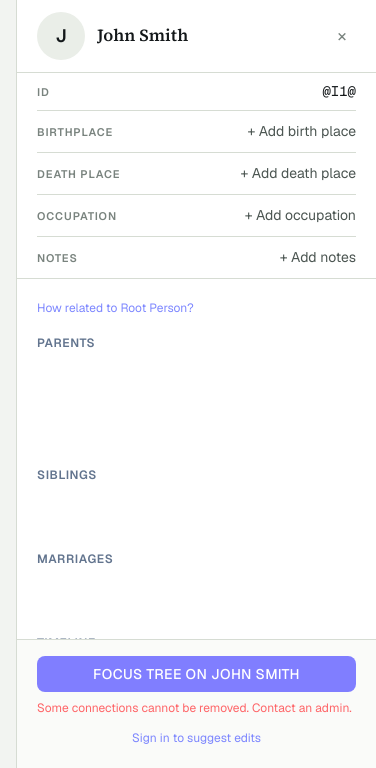
it: PersonDrawer › Relationship calculator › shows an error message returned by the API when the request fails
Click the button with test id "person-drawer-relationship-button" at (115, 308), box [37,300,194,316]
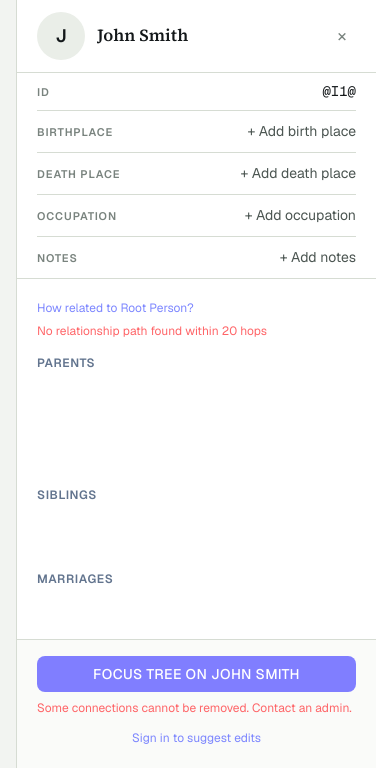
Result: the text with test id "person-drawer-relationship-error" reads "No relationship path found within 20 hops" at [37,323,267,339]
